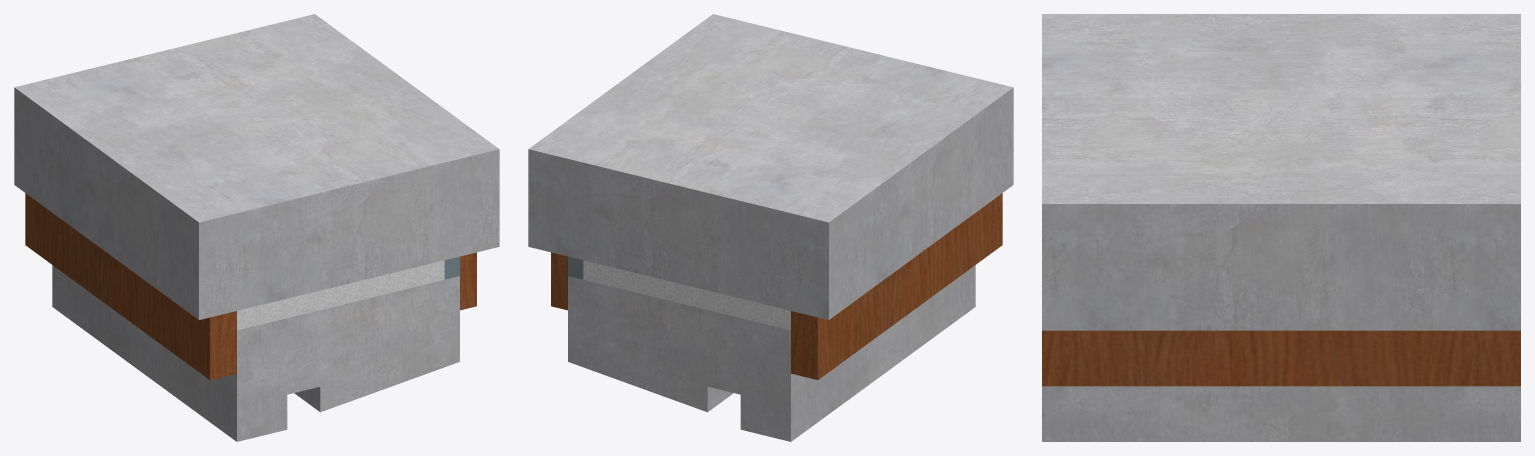
The model's file is window-wall-gap-sealing.glb.
3 renders of one model, left to right at view 1: azimuth 30°, elevation 25°; view 2: azimuth 150°, elevation 25°; view 3: azimuth 270°, elevation 25°, orthographic. The views are drawn at different scales.
Parts seen in each view (by area): view 1: 外墙, 窗框, 左木条, 袋装矿棉, 右木条; view 2: 外墙, 窗框, 左木条, 袋装矿棉, 右木条; view 3: 外墙, 右木条, 窗框.
Boxes of the visible parts, <box> form: 外墙: <box>14,14,499,319</box>; 窗框: <box>52,265,459,441</box>; 左木条: <box>25,193,236,379</box>; 袋装矿棉: <box>237,260,444,330</box>; 右木条: <box>460,252,476,310</box>; 外墙: <box>528,14,1013,319</box>; 窗框: <box>568,265,975,441</box>; 左木条: <box>791,193,1002,379</box>; 袋装矿棉: <box>583,260,790,330</box>; 右木条: <box>551,252,567,310</box>; 外墙: <box>1042,14,1520,330</box>; 右木条: <box>1042,330,1520,386</box>; 窗框: <box>1042,386,1520,441</box>.
Bounding box in the file's own units: 1.13 × 0.8197 × 1.2.
Materials: 6 (5 with a texture image).
